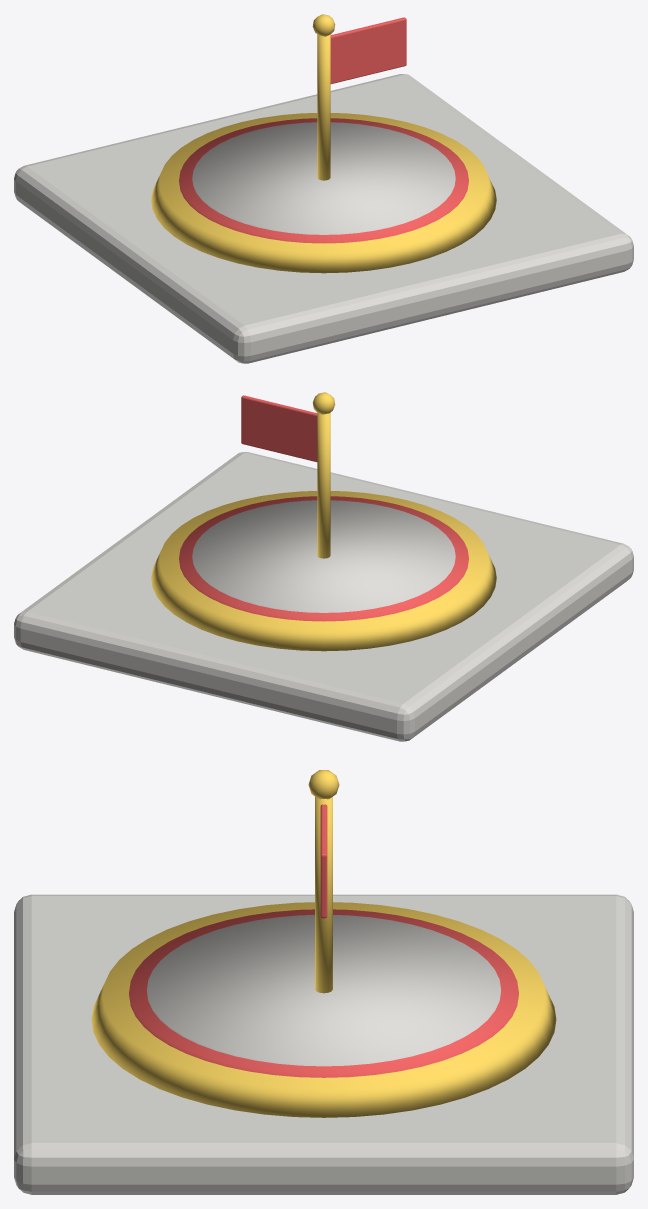
The model's file is Tile_Corner_Start.fbx.
3 renders of one model, top to bottom at view 1: azimuth 30°, elevation 25°; view 2: azimuth 150°, elevation 25°; view 3: azimuth 270°, elevation 25°, orthographic. The views are drawn at different scales.
Parts seen in each view (by area): view 1: Tile_Corner_Start; view 2: Tile_Corner_Start; view 3: Tile_Corner_Start.
Part boxes in pixels (left/top/right/bottom): Tile_Corner_Start: left=14, top=14, right=633, bottom=363; Tile_Corner_Start: left=14, top=392, right=633, bottom=741; Tile_Corner_Start: left=14, top=770, right=633, bottom=1194.
Size of the model in its own units: 2.8 by 1.49 by 2.8.
